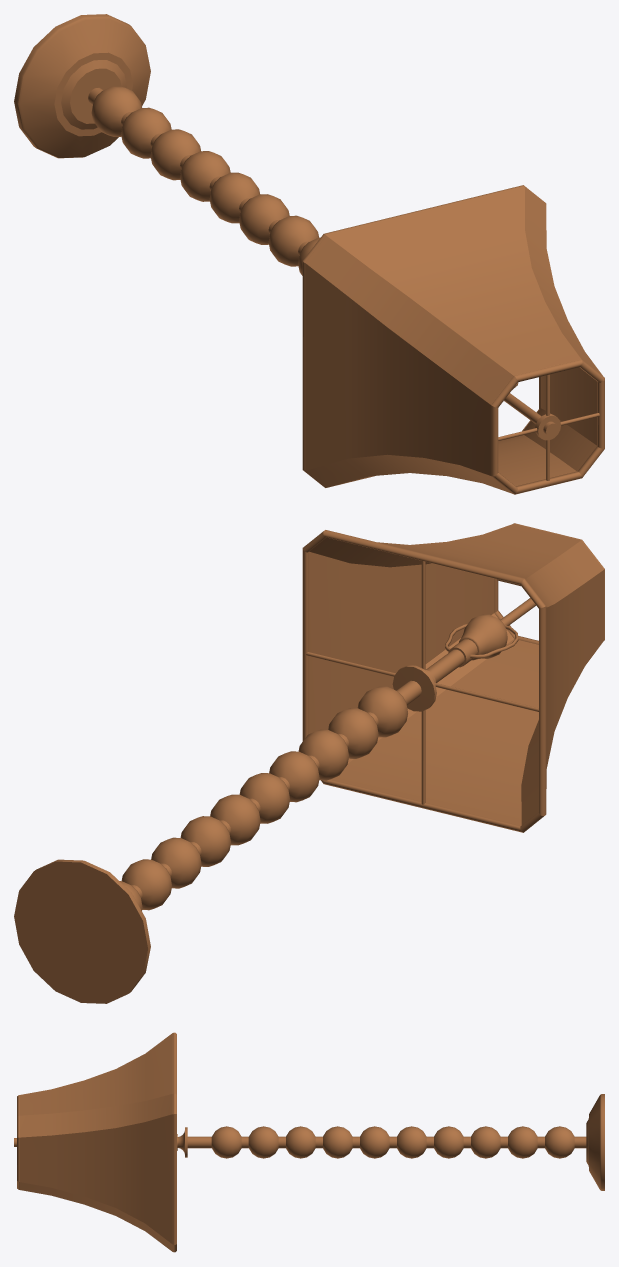
Rendered from FloorLamp_19.obj.
3 views of the same model, one above another, from view 1: azimuth 30°, elevation 25°; view 2: azimuth 150°, elevation 25°; view 3: azimuth 270°, elevation 25° (orthographic). The views are drawn at different scales.
Visible parts, largest first — view 1: FloorLamp_19; view 2: FloorLamp_19; view 3: FloorLamp_19.
Part boxes in pixels (box(x1,y1,x2,y2)): FloorLamp_19: box(14, 14, 604, 494); FloorLamp_19: box(14, 523, 604, 1003); FloorLamp_19: box(14, 1032, 604, 1252).
Size of the model in its own units: 0.5272 by 0.5272 by 1.78.
